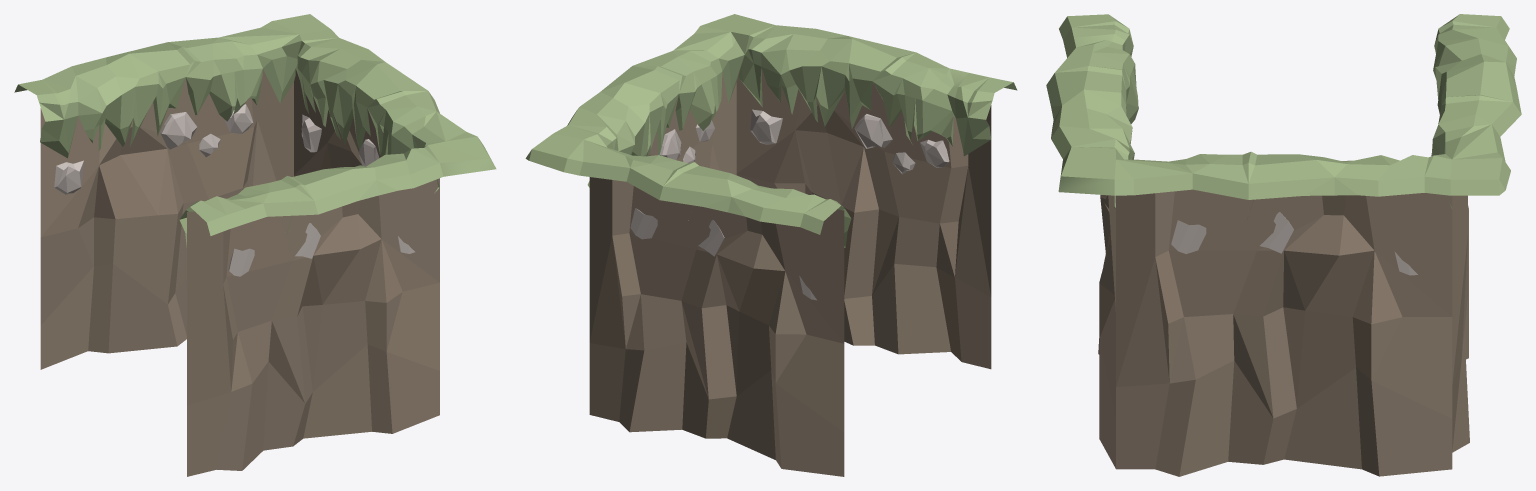
File: ER_Terrain_1x1_GrassCorner_Inverted_001_A3.fbx
3 views of the same model, side by side, from view 1: azimuth 30°, elevation 25°; view 2: azimuth 150°, elevation 25°; view 3: azimuth 270°, elevation 25° (orthographic). The views are drawn at different scales.
Parts seen in each view (by area): view 1: ER_Terrain_1x1_GrassCorner_Inverted_001_A3; view 2: ER_Terrain_1x1_GrassCorner_Inverted_001_A3; view 3: ER_Terrain_1x1_GrassCorner_Inverted_001_A3.
Boxes of the visible parts, x1,y1,x2,y2 form: ER_Terrain_1x1_GrassCorner_Inverted_001_A3: [14, 14, 496, 476]; ER_Terrain_1x1_GrassCorner_Inverted_001_A3: [525, 14, 1017, 476]; ER_Terrain_1x1_GrassCorner_Inverted_001_A3: [1046, 14, 1521, 476].
Size of the model in its own units: 1.21 by 1.06 by 1.41.
